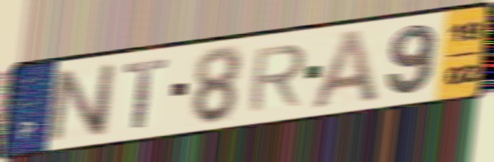8: (189, 43, 245, 126)
9: (383, 21, 439, 99)
A: (307, 26, 381, 113)
N: (46, 61, 118, 145)
R: (245, 41, 310, 115)
T: (122, 56, 169, 131)
